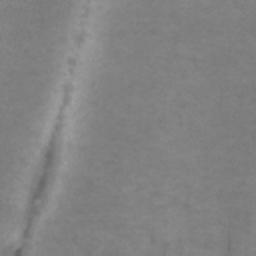Finishing roll printing: (12, 82, 76, 253), (79, 0, 92, 26), (74, 32, 86, 46), (67, 60, 78, 74)
